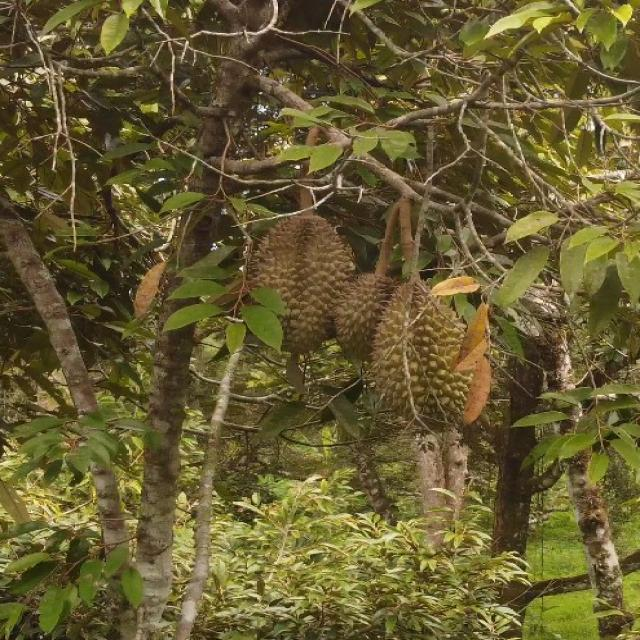mature: (368, 278, 476, 431), (251, 213, 353, 352), (332, 273, 406, 371)
